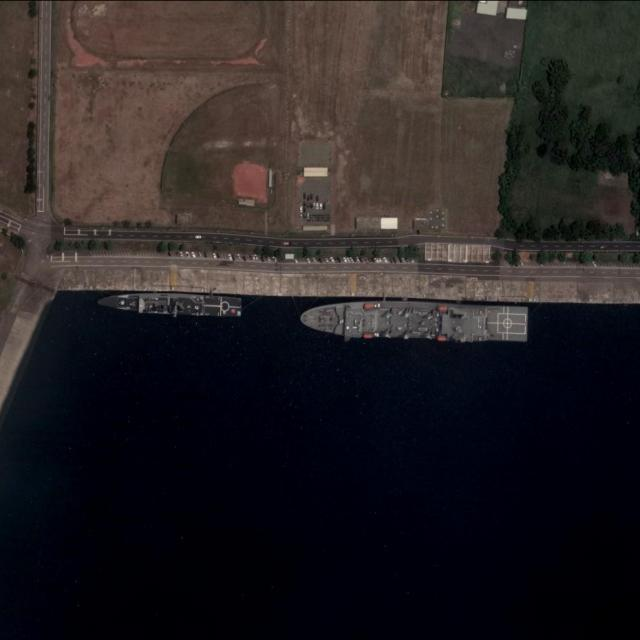Commander: (300, 300, 530, 344)
Frigate: (96, 290, 242, 318)
